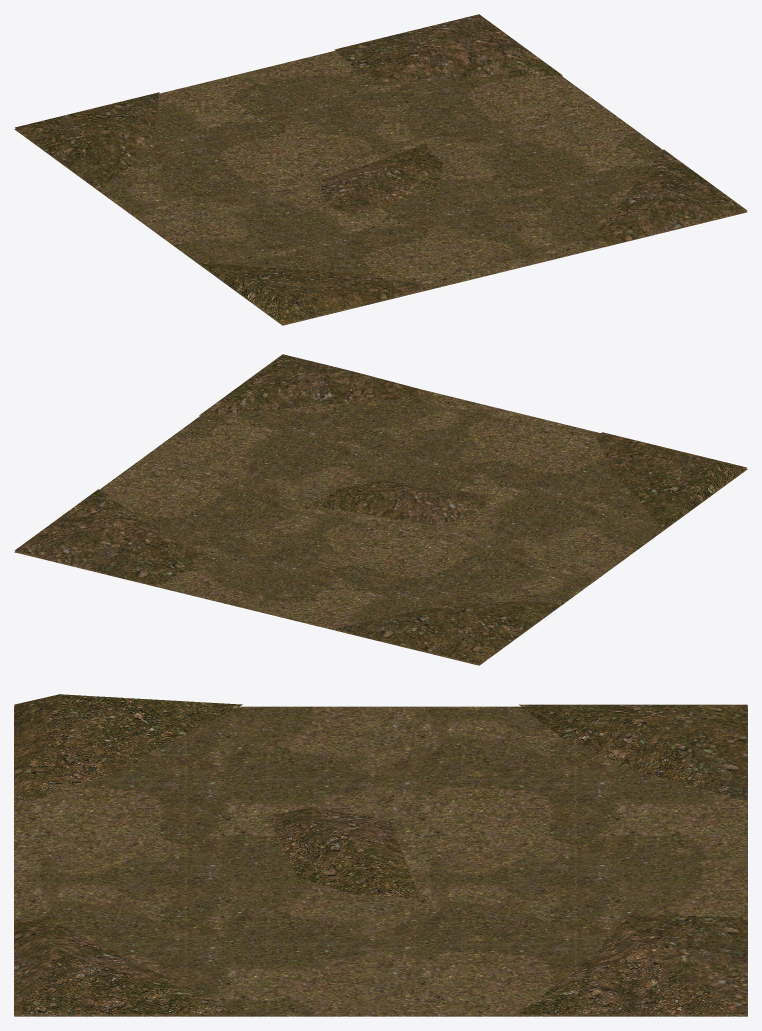
Rendered from Garden_09_Art.fbx.
The picture shows the model from 3 angles, top to bottom: view 1: azimuth 30°, elevation 25°; view 2: azimuth 150°, elevation 25°; view 3: azimuth 270°, elevation 25°; orthographic projection. The views are drawn at different scales.
Visible parts, largest first — view 1: Garden_09_Art; view 2: Garden_09_Art; view 3: Garden_09_Art.
Part boxes in pixels (<box>): Garden_09_Art: <box>14,14,747,325</box>; Garden_09_Art: <box>14,354,747,665</box>; Garden_09_Art: <box>14,694,747,1016</box>.
Size of the model in its own units: 1598 by 50.07 by 1598.
